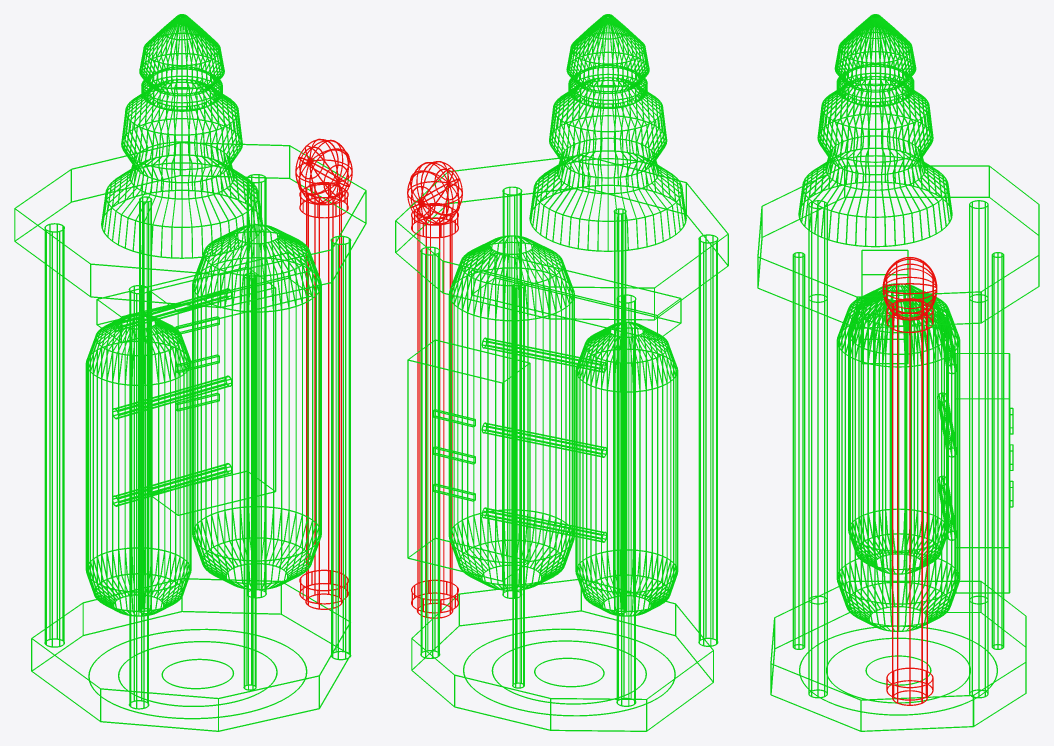
Rendered from turret-optimiser-highlight-manual-pulse-control.glb.
The picture shows the model from 3 angles, left to right: view 1: azimuth 30°, elevation 25°; view 2: azimuth 150°, elevation 25°; view 3: azimuth 270°, elevation 25°; orthographic projection. The views are drawn at different scales.
Visible parts, largest first — view 1: flux-capacitor-system technical wire, chassis technical wire, stored-energy-output technical wire, manual-pulse-control technical wire; view 2: flux-capacitor-system technical wire, chassis technical wire, stored-energy-output technical wire, manual-pulse-control technical wire; view 3: flux-capacitor-system technical wire, chassis technical wire, stored-energy-output technical wire, manual-pulse-control technical wire.
Part boxes in pixels (left/top/right/bottom): flux-capacitor-system technical wire: left=85, top=224, right=321, bottom=616; chassis technical wire: left=14, top=142, right=366, bottom=731; stored-energy-output technical wire: left=101, top=14, right=262, bottom=258; manual-pulse-control technical wire: left=295, top=138, right=352, bottom=609; flux-capacitor-system technical wire: left=448, top=235, right=681, bottom=616; chassis technical wire: left=395, top=154, right=728, bottom=731; stored-energy-output technical wire: left=529, top=14, right=686, bottom=251; manual-pulse-control technical wire: left=407, top=161, right=462, bottom=618; flux-capacitor-system technical wire: left=836, top=249, right=960, bottom=631; chassis technical wire: left=757, top=165, right=1039, bottom=731; stored-energy-output technical wire: left=798, top=14, right=952, bottom=247; manual-pulse-control technical wire: left=882, top=257, right=937, bottom=705.
Size of the model in its own units: 0.8424 by 1.85 by 0.738.
